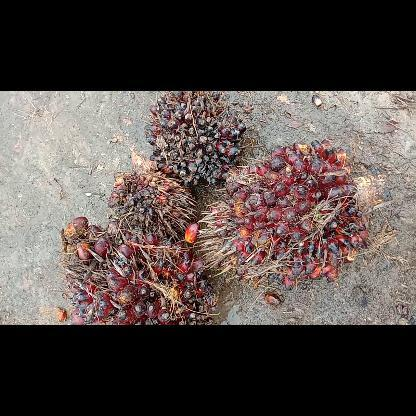Kurang masak: (60, 216, 218, 324)
TBS abnormal: (144, 90, 245, 184), (107, 149, 195, 239)
TBS masak: (197, 139, 385, 289)
